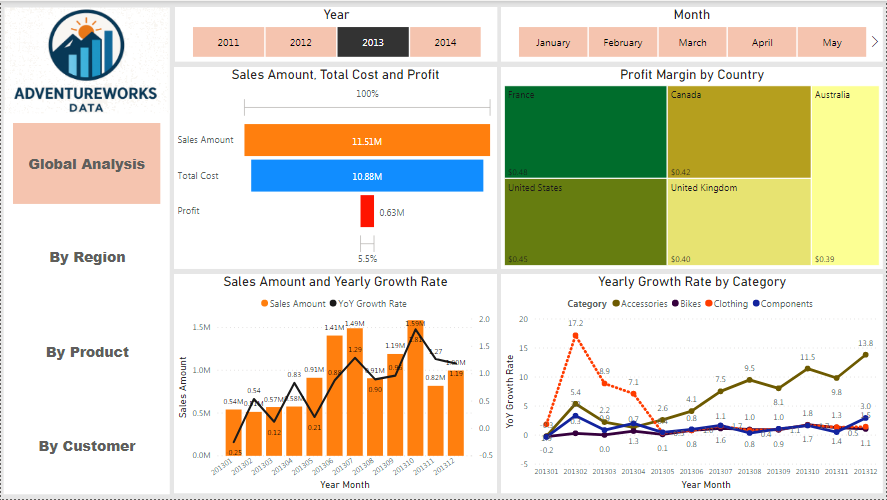

What the dashboard file says about the page in this screenshot:
{"tool":"powerbi","page":{"name":"Main","canvas":[1280,720],"ordinal":0},"visuals":[{"type":"slicer","title":"Month","fields":{"Values":["Dim Date.Month Name"]},"box":[723,8.4,551.9,78.8],"z":0},{"type":"basicShape","box":[2,152,245,567],"z":0,"group":"g1"},{"type":"slicer","title":"Year","fields":{"Values":["Dim Date.Year"]},"box":[251.6,8.4,466.4,78.8],"z":1000},{"type":"actionButton","box":[34.1,177.7,180.3,115.4],"z":1000,"group":"g1"},{"type":"actionButton","box":[34.1,312.9,180.3,115],"z":2000,"group":"g1"},{"type":"lineStackedColumnComboChart","title":"Sales Amount and Yearly Growth Rate","fields":{"Y":["Fact Sales (Measures).Sales Amount"],"Y2":["Fact Sales (Measures).YoY Growth Rate"],"Category":["Dim Date.Year Month"]},"box":[250.1,394.7,467,316.6],"z":2000},{"type":"group","id":"g1","title":"Side_Menu","box":[0,5,249,714],"z":3000},{"type":"actionButton","box":[34.1,449.7,180.3,115],"z":3000,"group":"g1"},{"type":"lineChart","title":"Yearly Growth Rate by Category","fields":{"Series":["Dim Product.Category"],"Category":["Dim Date.Year Month"],"Y":["Fact Sales (Measures).YoY Growth Rate"]},"box":[722.9,394.7,552.3,316.6],"z":4000},{"type":"actionButton","box":[34.1,584.8,180.3,115.4],"z":4000,"group":"g1"},{"type":"treemap","title":"Profit Margin by Country","fields":{"Group":["Dim Customer.Country"],"Values":["Fact Sales (Measures).Profit Margin %"]},"box":[722.9,95.4,552.3,292],"z":5000},{"type":"actionButton","box":[17,177,213,116.7],"z":5000,"group":"g1"},{"type":"funnel","fields":{"Y":["Fact Sales (Measures).Sales Amount","Fact Sales (Measures).Total Cost","Fact Sales (Measures).Profit"]},"box":[250.1,95.4,467,292],"z":6000},{"type":"image","box":[0,5,249,163],"z":9000,"group":"g1"}]}

Visuals, with their boxes in screenshot pixels (x1, y1, x2, y2), scaled from the page's 1280x720 canvas onto the 887x500 screenshot:
"Month" slicer: crop(501, 6, 883, 61)
basicShape: crop(1, 106, 171, 499)
"Year" slicer: crop(174, 6, 498, 61)
actionButton: crop(24, 123, 149, 204)
actionButton: crop(24, 217, 149, 297)
"Sales Amount and Yearly Growth Rate" lineStackedColumnComboChart: crop(173, 274, 497, 494)
"Side_Menu" group: crop(0, 3, 173, 499)
actionButton: crop(24, 312, 149, 392)
"Yearly Growth Rate by Category" lineChart: crop(501, 274, 884, 494)
actionButton: crop(24, 406, 149, 486)
"Profit Margin by Country" treemap: crop(501, 66, 884, 269)
actionButton: crop(12, 123, 159, 204)
funnel - Fact Sales (Measures).Sales Amount x Fact Sales (Measures).Total Cost: crop(173, 66, 497, 269)
image: crop(0, 3, 173, 117)
